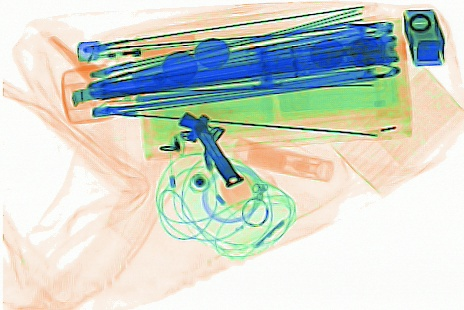lighter: (75, 33, 191, 63)
